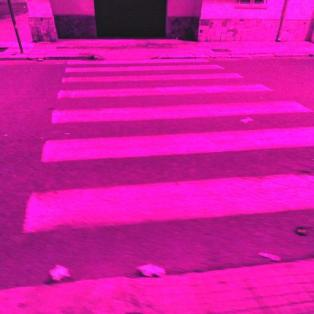Paso de Cebra: (16, 123, 314, 242), (42, 70, 278, 103)
